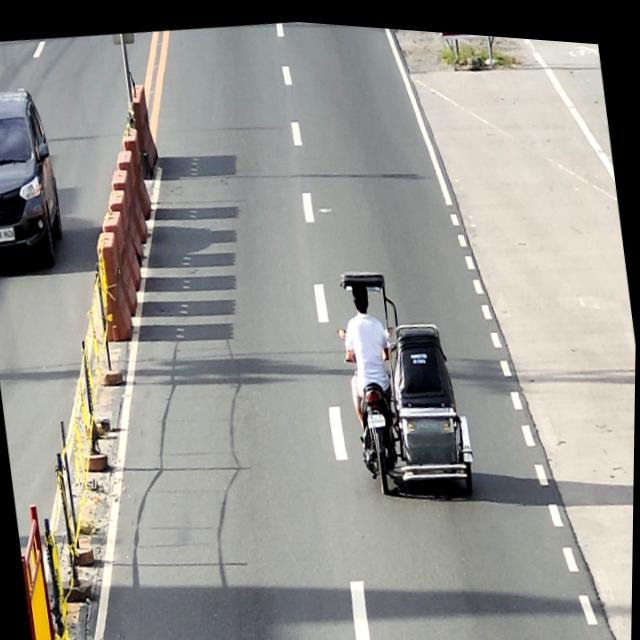Car: (0, 82, 70, 275)
License-Plate: (366, 405, 389, 424), (0, 223, 16, 244)
Tricycle: (330, 249, 482, 502)
